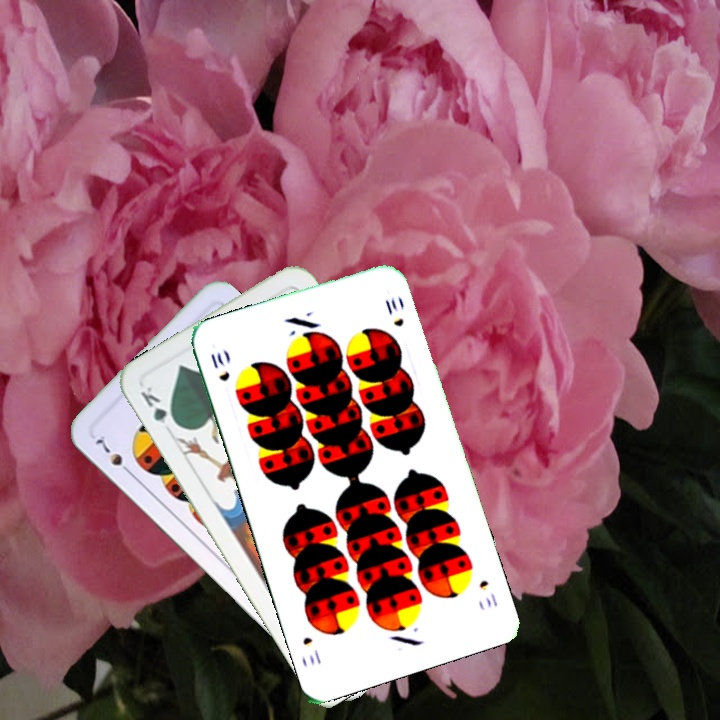GK: (136, 382, 181, 430)
S10: (206, 348, 232, 384), (475, 576, 501, 610)
S7: (91, 431, 136, 479)
